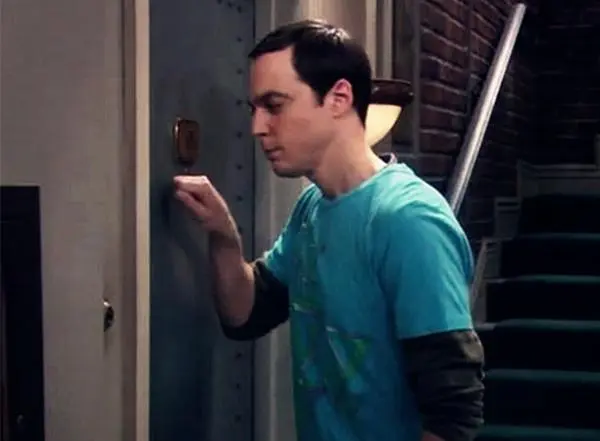withoutmask: (229, 17, 382, 195)
